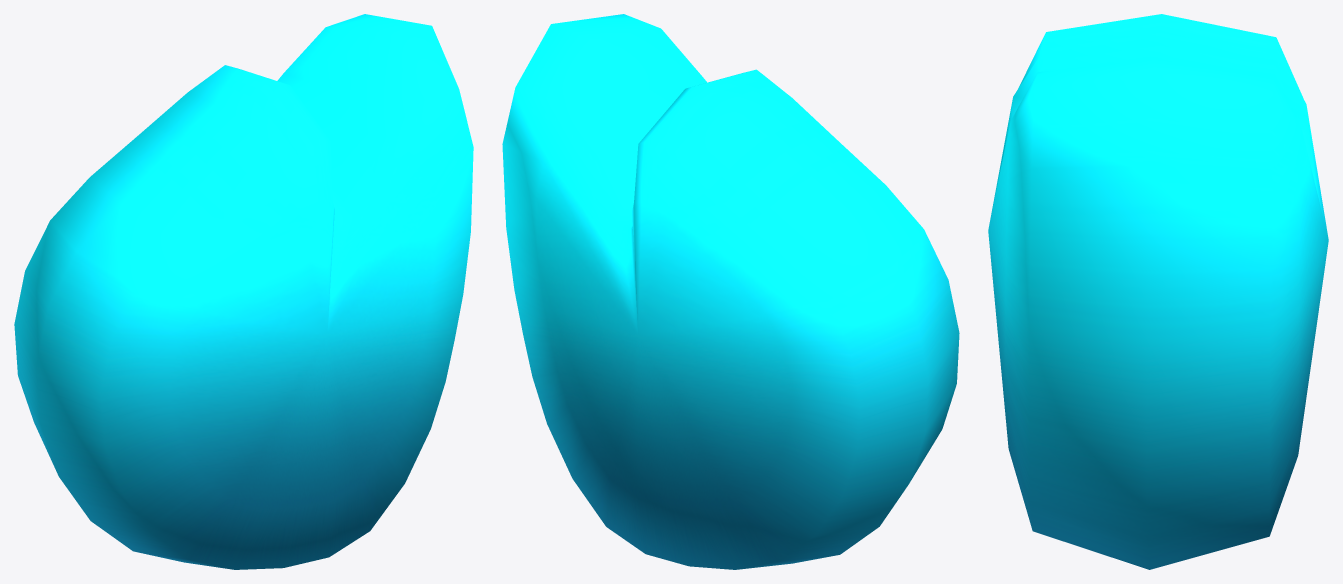
Rendered from blue_fire.glb.
3 renders of one model, left to right at view 1: azimuth 30°, elevation 25°; view 2: azimuth 150°, elevation 25°; view 3: azimuth 270°, elevation 25°, orthographic. The views are drawn at different scales.
Visible parts, largest first — view 1: Blue_Fire; view 2: Blue_Fire; view 3: Blue_Fire.
Boxes of the visible parts, x1,y1,x2,y2 form: Blue_Fire: (14,14,473,569); Blue_Fire: (502,14,959,569); Blue_Fire: (988,14,1328,569).
Size of the model in its own units: 0.4743 by 0.5484 by 0.2963.
1 material, 1 textured.
